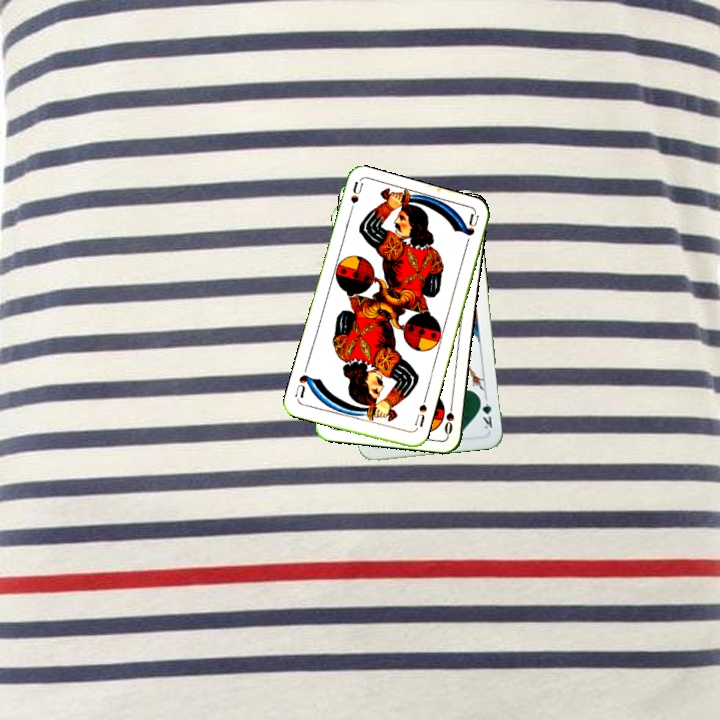GK: (476, 392, 495, 431)
SO: (440, 397, 457, 437)
SU: (345, 179, 365, 219), (410, 400, 430, 430)
